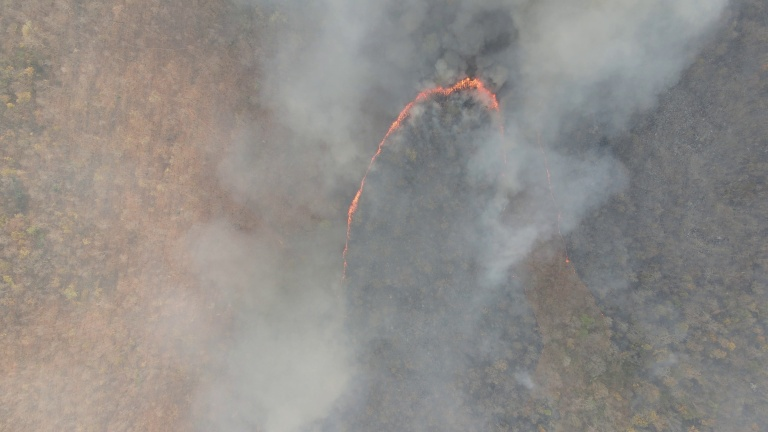fire: (340, 79, 505, 284), (538, 137, 570, 280)
smoke: (191, 1, 412, 430), (468, 1, 718, 280)
